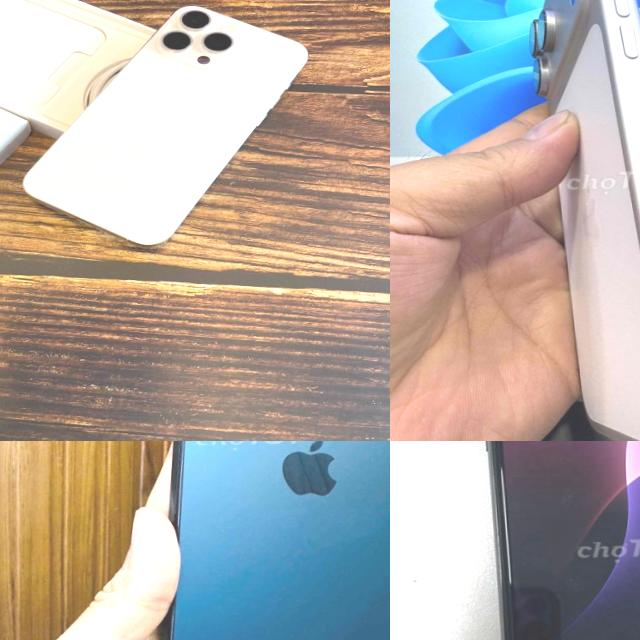gen_11: (473, 441, 640, 640)
gen_15: (13, 0, 320, 252), (160, 441, 390, 640)
gen_17: (529, 0, 640, 441)
scratch: (522, 468, 598, 512)
